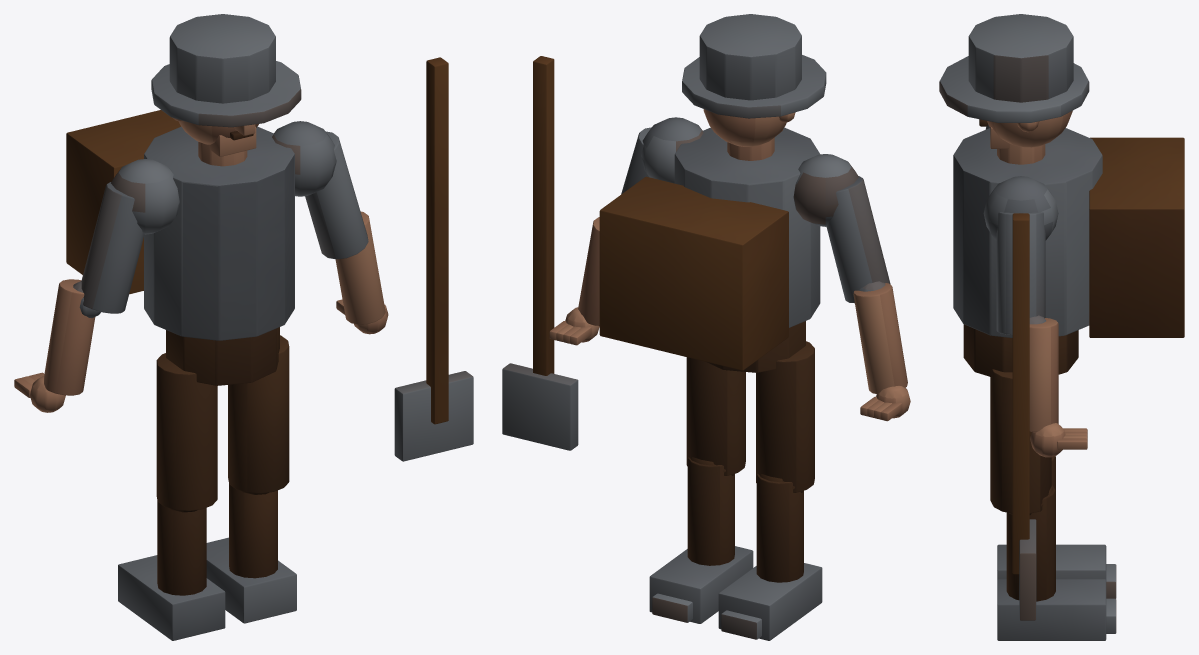
File: unit_royal_pioneer.fbx
The picture shows the model from 3 angles, left to right: view 1: azimuth 30°, elevation 25°; view 2: azimuth 150°, elevation 25°; view 3: azimuth 270°, elevation 25°; orthographic projection. The views are drawn at different scales.
Parts seen in each view (by area): view 1: unit_royal_pioneer; view 2: unit_royal_pioneer; view 3: unit_royal_pioneer.
Boxes of the visible parts, x1,y1,x2,y2 form: unit_royal_pioneer: (14, 14, 473, 640); unit_royal_pioneer: (502, 14, 910, 640); unit_royal_pioneer: (939, 14, 1184, 640).
Size of the model in its own units: 1.43 by 1.87 by 0.72.
